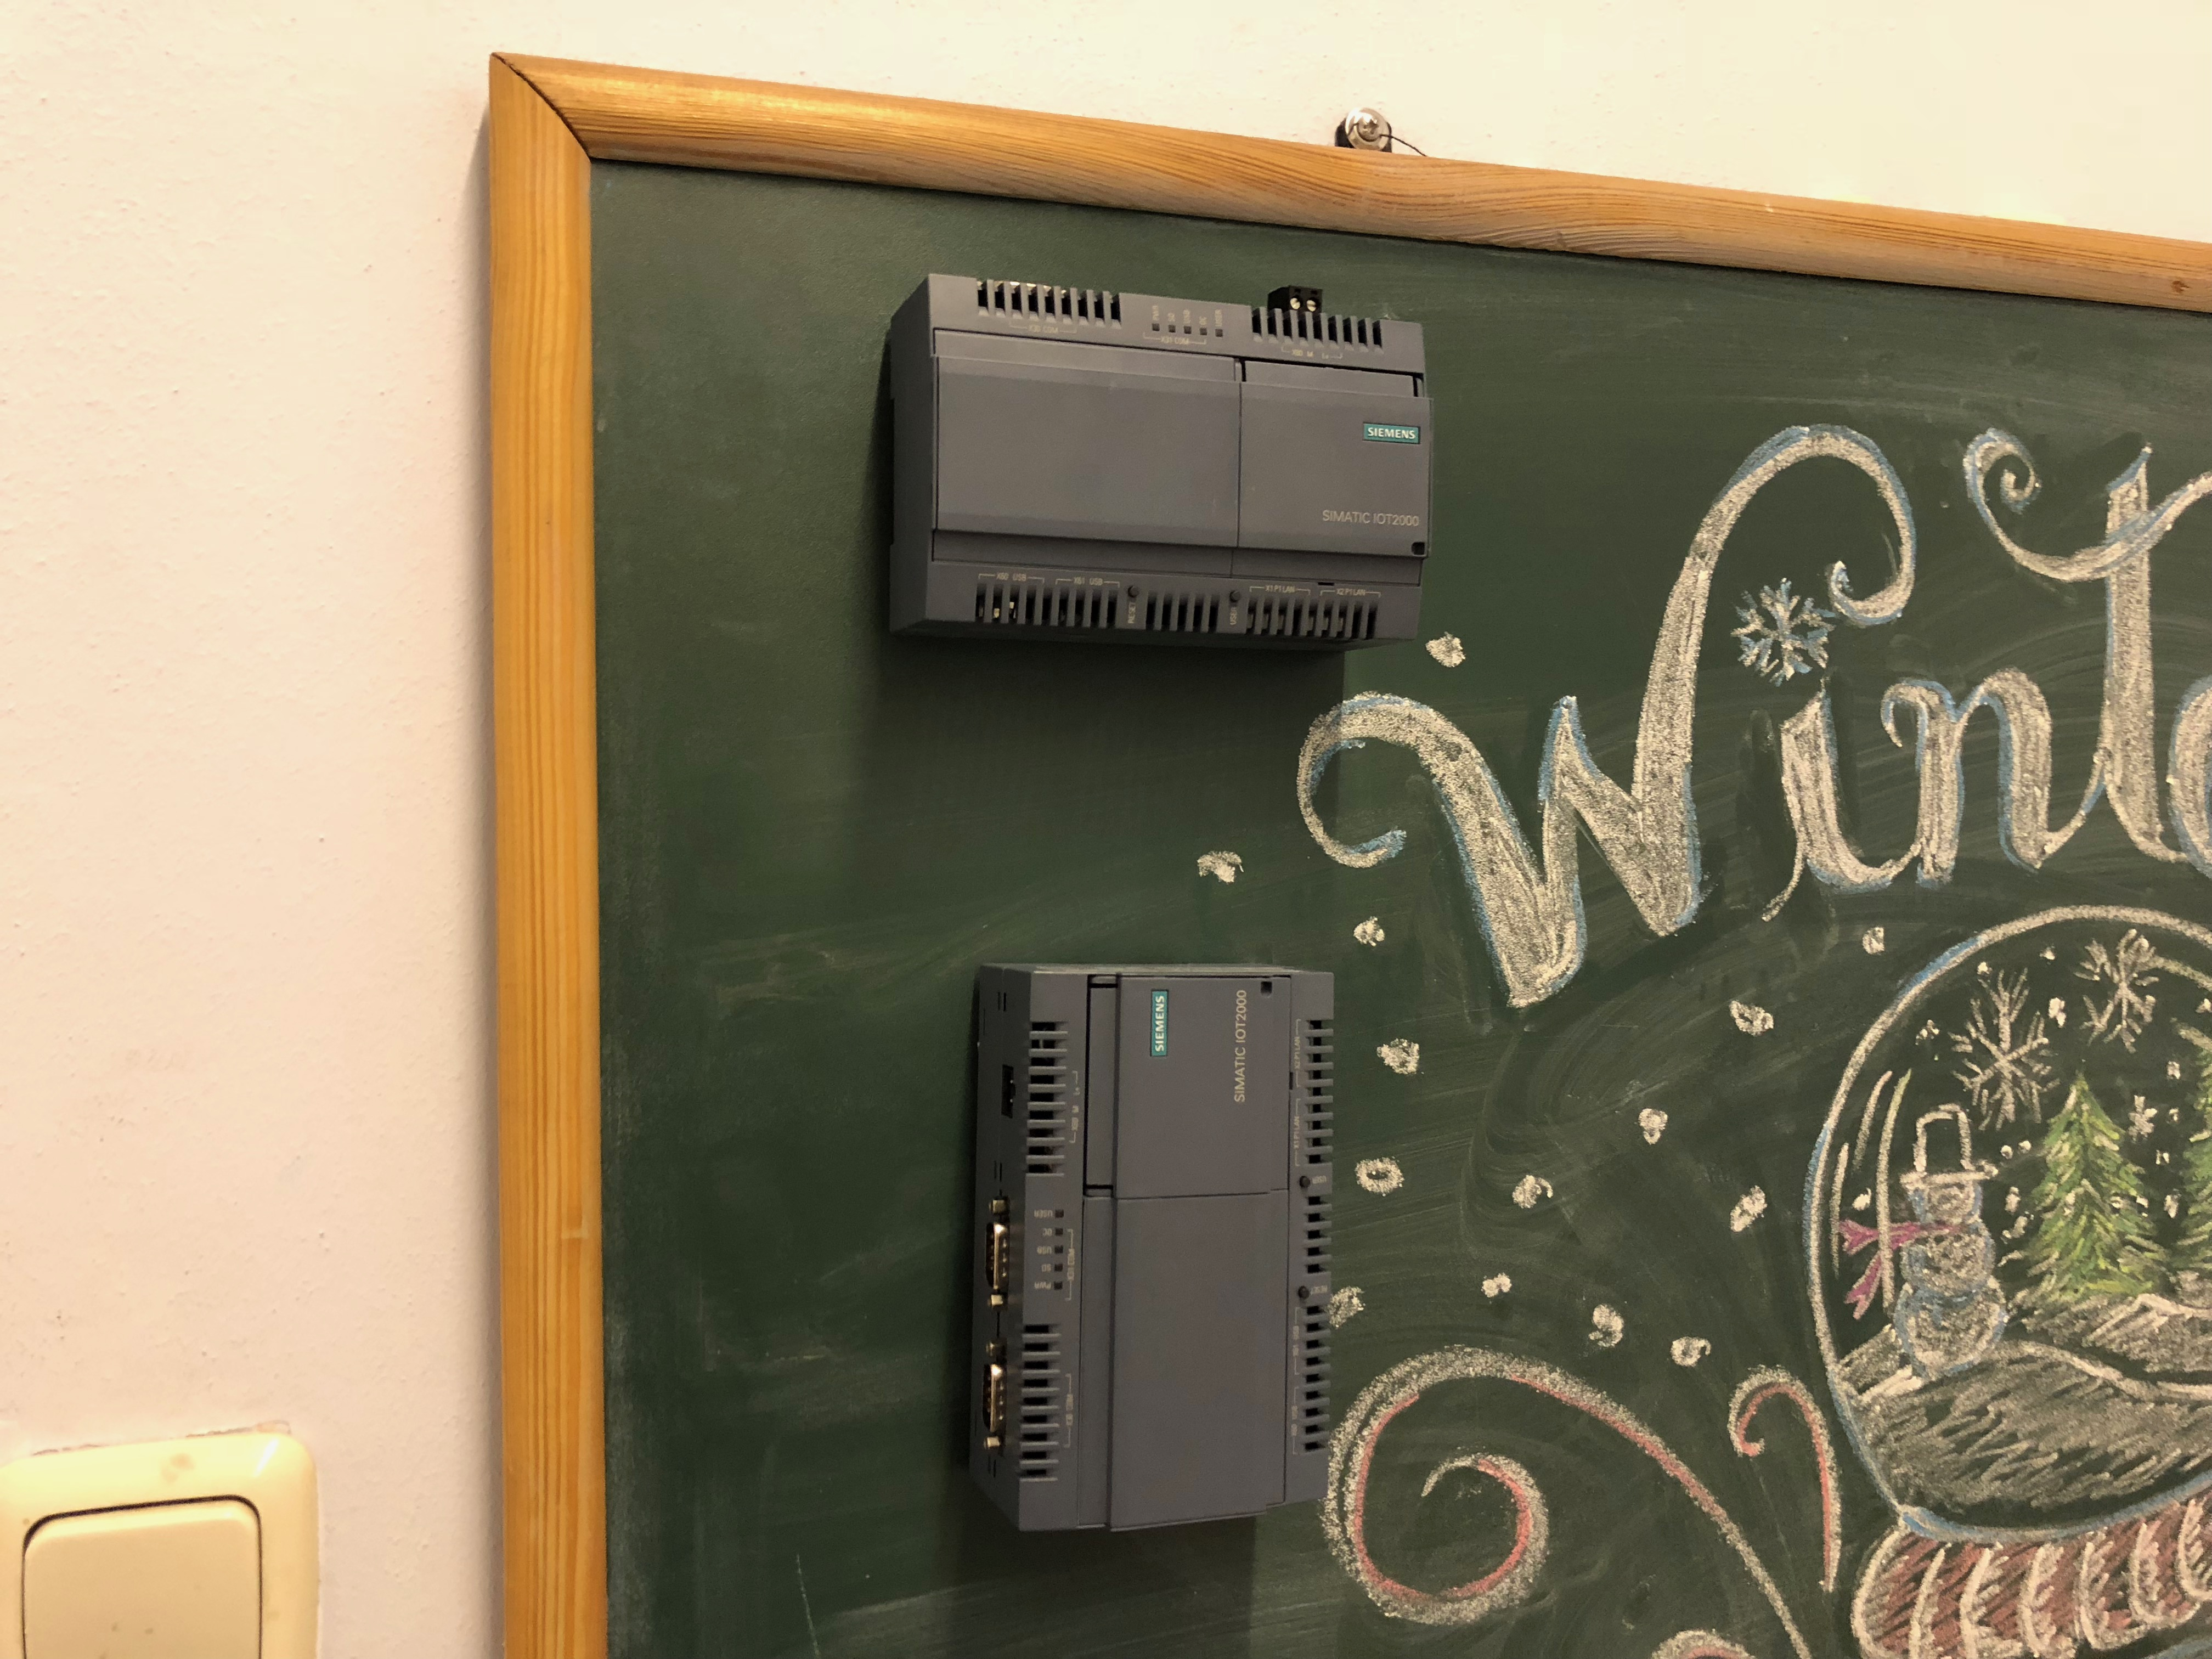device: (970, 962, 1334, 1532), (888, 274, 1432, 653)
